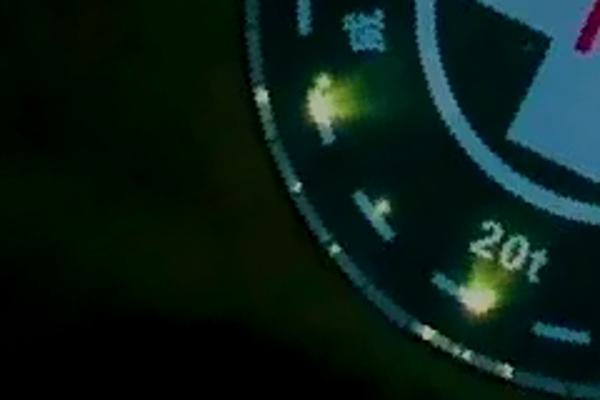Apron: (448, 2, 587, 211)
